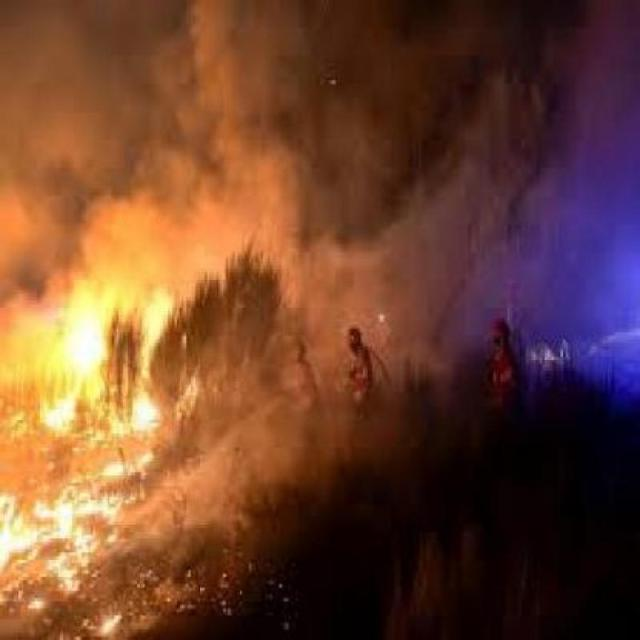Fire: (8, 264, 162, 638)
Smoke: (0, 0, 626, 269)
